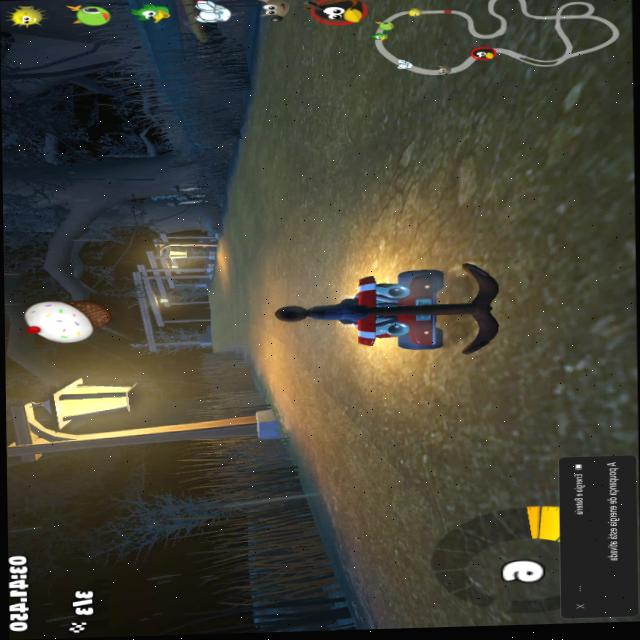player_kart: (269, 259, 513, 370)
track: (252, 51, 545, 266), (530, 0, 640, 453), (263, 372, 537, 502), (336, 500, 462, 630), (202, 261, 260, 353), (218, 203, 250, 261)
